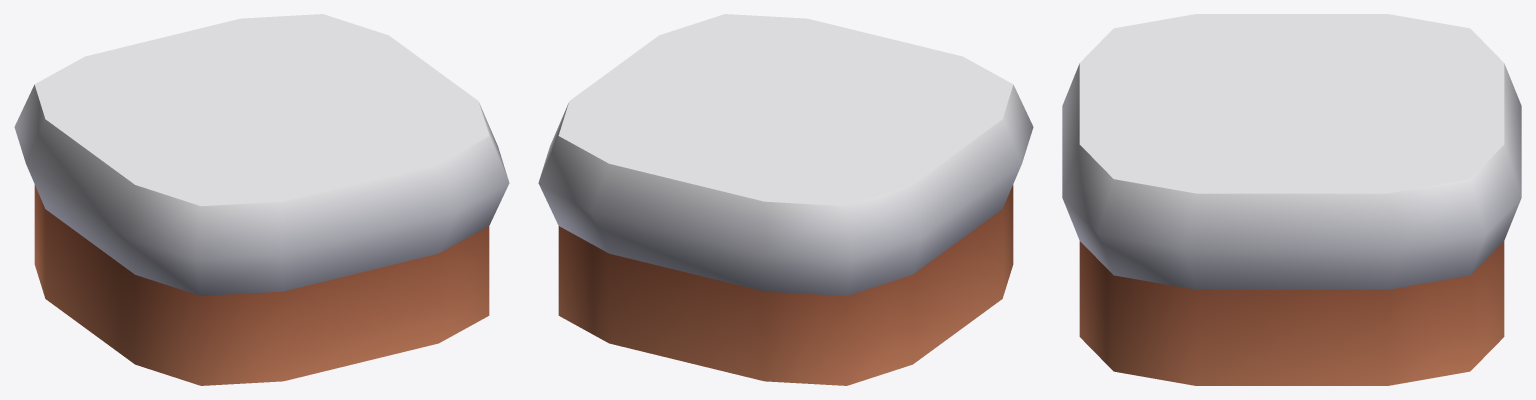
File: block_snow_low.glb
3 views of the same model, side by side, from view 1: azimuth 30°, elevation 25°; view 2: azimuth 150°, elevation 25°; view 3: azimuth 270°, elevation 25° (orthographic). The views are drawn at different scales.
Visible parts, largest first — view 1: block-snow-low; view 2: block-snow-low; view 3: block-snow-low.
Part boxes in pixels (bbox=[...]): block-snow-low: bbox=[14, 14, 509, 385]; block-snow-low: bbox=[538, 14, 1033, 385]; block-snow-low: bbox=[1062, 14, 1521, 385].
Bounding box in the file's own units: 1.08 × 0.5 × 1.08.
Materials: 1 (1 with a texture image).
